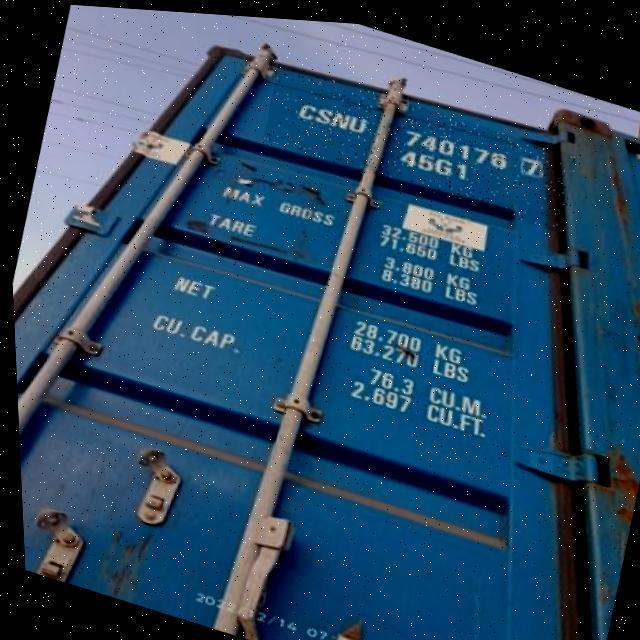container_number_h: (258, 58, 578, 226)
